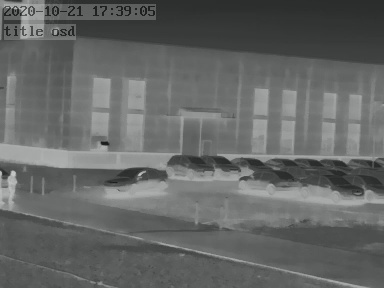person: (6, 169, 17, 208)
vehicle: (301, 174, 363, 202), (102, 167, 165, 194), (236, 171, 297, 194), (164, 153, 211, 179), (203, 153, 242, 177), (350, 173, 383, 200), (232, 154, 270, 172), (261, 155, 296, 170), (347, 156, 381, 170), (318, 156, 347, 170), (296, 155, 324, 169)
